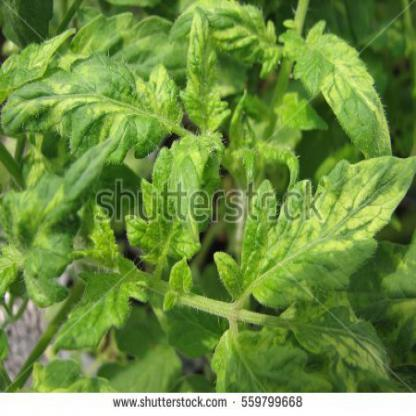tomato leaf mosaic virus: (231, 152, 412, 306), (5, 42, 179, 167), (283, 28, 398, 167), (125, 131, 223, 277), (48, 260, 143, 351), (205, 328, 332, 390), (179, 6, 232, 146)
